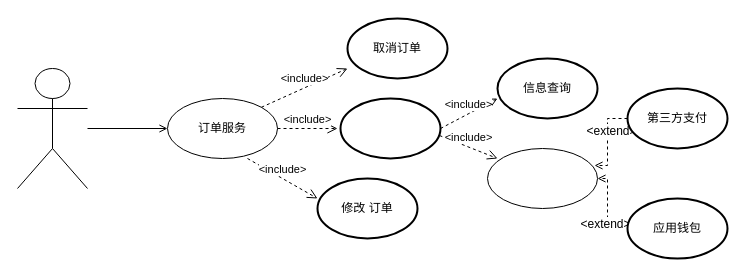
The diagram is 746 pixels wide and 276 high, and some of its shapes have lost their labels. The centre of each missing label's shape, as x and y in pixels:
"下订单" goes at pixel 390 128.
"支付功能" goes at pixel 542 178.
"用户" goes at pixel 52 128.
